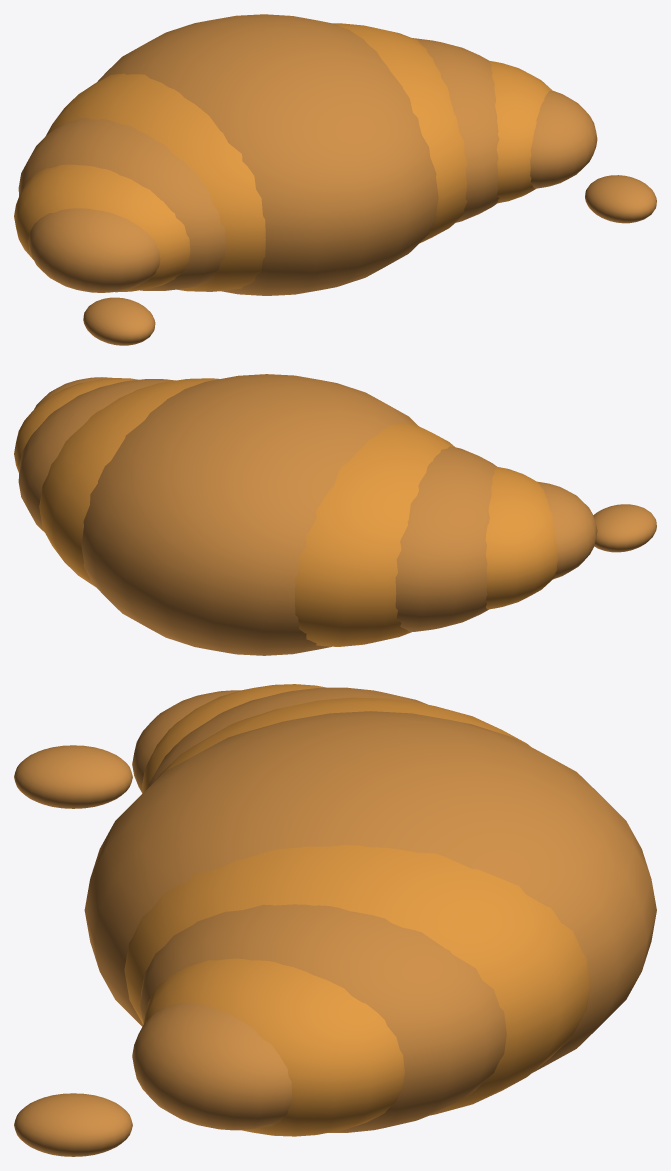
File: wp-croissant.glb
3 renders of one model, top to bottom at view 1: azimuth 30°, elevation 25°; view 2: azimuth 150°, elevation 25°; view 3: azimuth 270°, elevation 25°, orthographic. The views are drawn at different scales.
Parts seen in each view (by area): view 1: wp-croissant; view 2: wp-croissant; view 3: wp-croissant.
Part boxes in pixels (x1,y1,x2,y2): wp-croissant: (14,14,656,345); wp-croissant: (14,374,656,655); wp-croissant: (14,684,656,1156).
Size of the model in its own units: 0.1688 by 0.065 by 0.1179.
